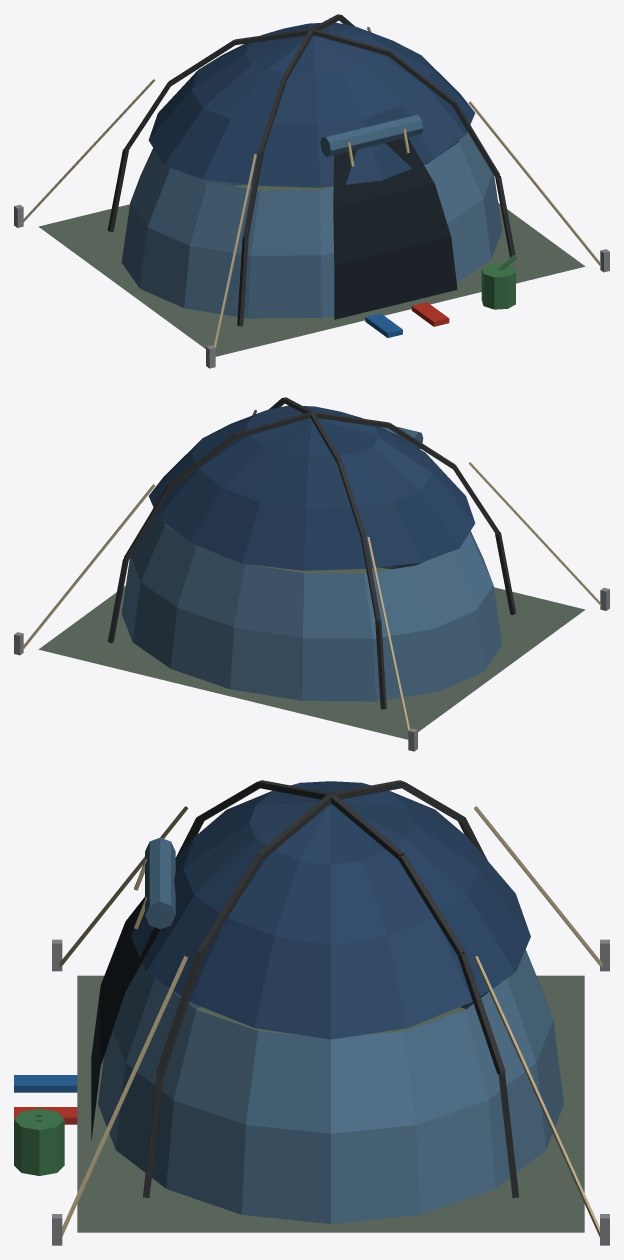
Rendered from ns_tent_dome.glb.
3 renders of one model, top to bottom at view 1: azimuth 30°, elevation 25°; view 2: azimuth 150°, elevation 25°; view 3: azimuth 270°, elevation 25°, orthographic. The views are drawn at different scales.
Visible parts, largest first — view 1: ns_tent_dome; view 2: ns_tent_dome; view 3: ns_tent_dome.
Part boxes in pixels (x1,y1,x2,y2): ns_tent_dome: (14, 14, 609, 368); ns_tent_dome: (14, 397, 609, 751); ns_tent_dome: (14, 780, 609, 1245).
Size of the model in its own units: 2.6 by 1.36 by 2.35.
